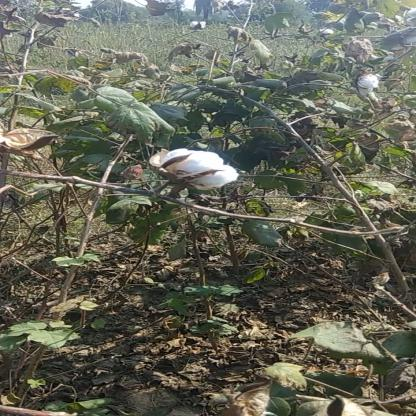cotton_ready: (134, 144, 254, 212)
